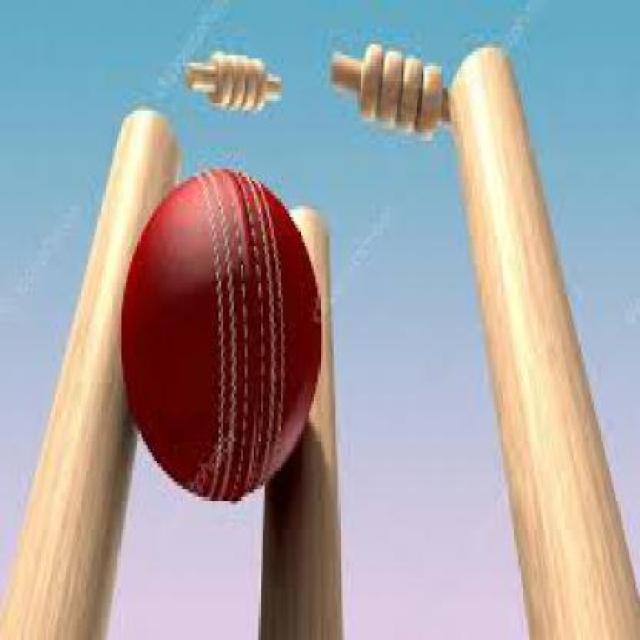ball: (85, 144, 382, 552)
